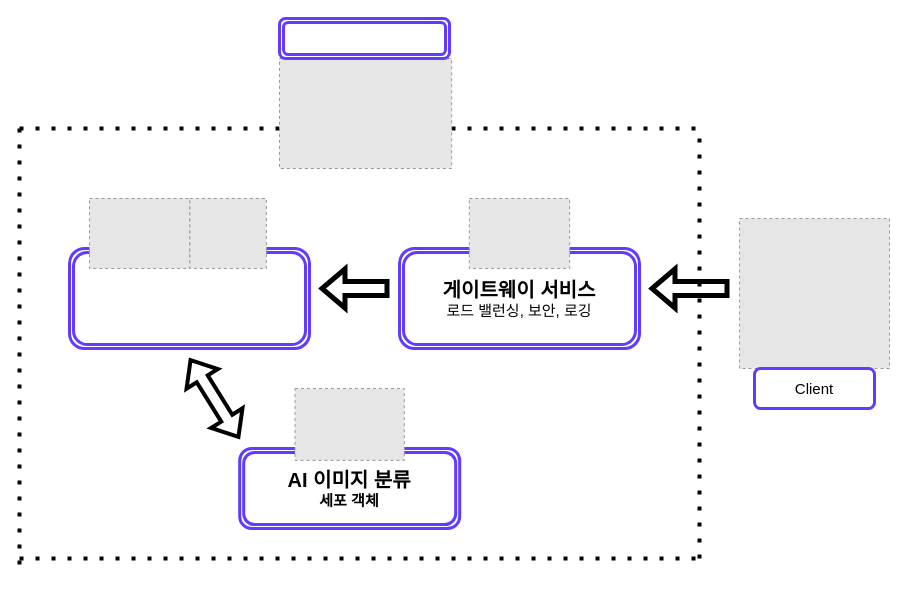
Some shapes in this 907 by 589 pixel diagram are drawn without their labels. Grey dashed boxes stand in for pictures. Here are the shapes that lost their labels. From the top down, the centre of each, then its label:
At pixel 364 38: "EC2 서버 내부".
At pixel 189 298: "세포계수 서비스 API 및 DB".
